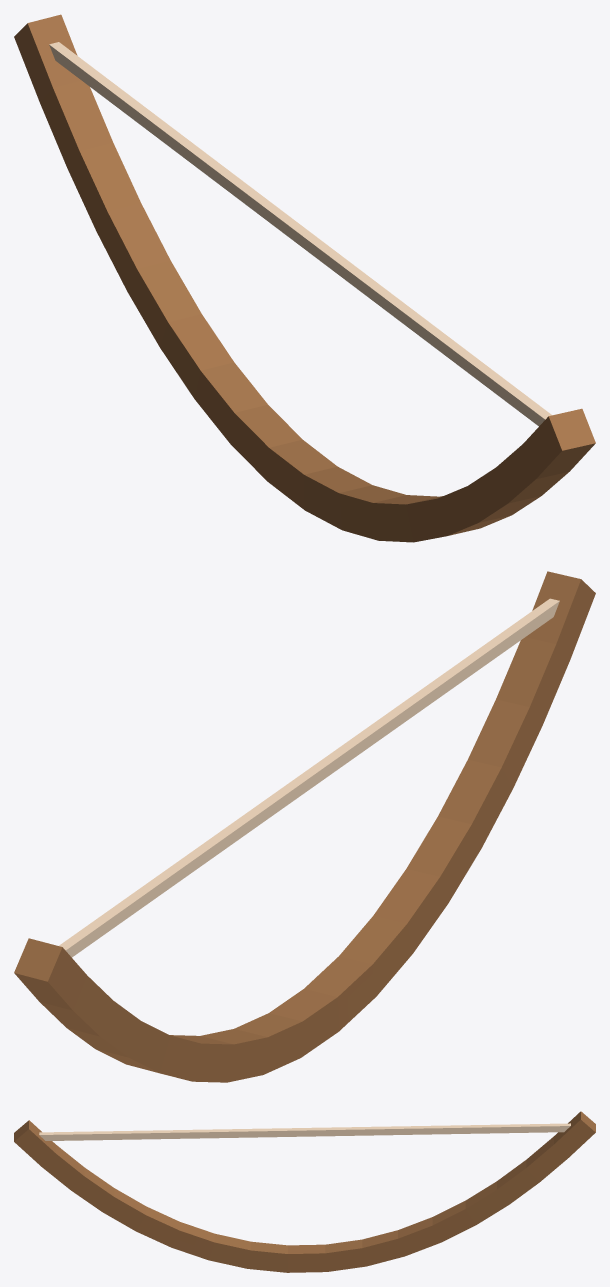
File: Bow.gltf
3 views of the same model, one above another, from view 1: azimuth 30°, elevation 25°; view 2: azimuth 150°, elevation 25°; view 3: azimuth 270°, elevation 25° (orthographic). The views are drawn at different scales.
Parts seen in each view (by area): view 1: Bow; view 2: Bow; view 3: Bow.
Boxes of the visible parts, box(x1,y1,x2,y2) form: Bow: box(14, 14, 595, 542); Bow: box(14, 571, 595, 1082); Bow: box(14, 1111, 595, 1272).
Size of the model in its own units: 0.0358 by 0.2647 by 0.9136.
Materials: 1 (1 with a texture image).
